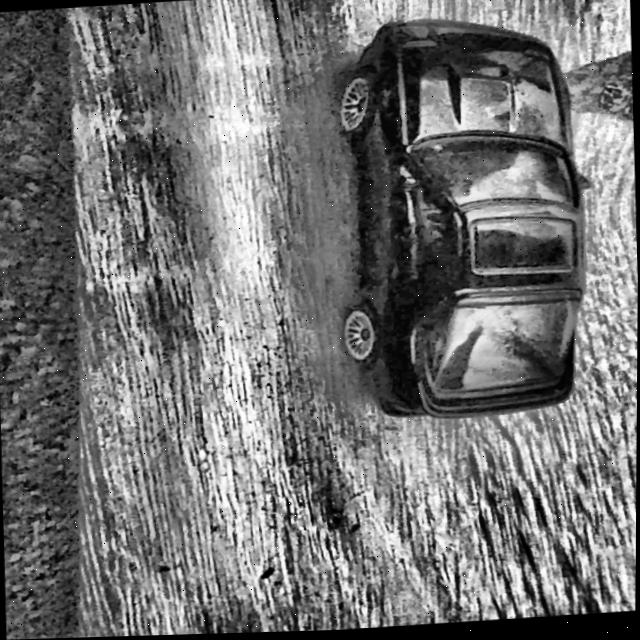car: (324, 11, 597, 428)
